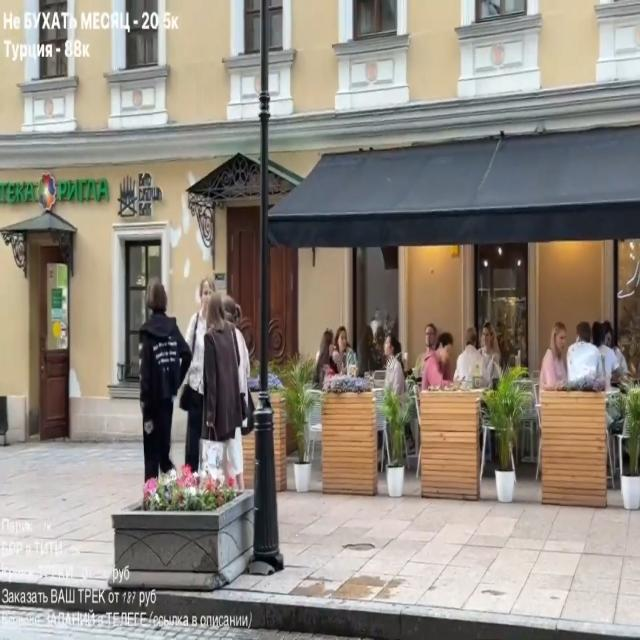Person: (138, 289, 193, 486), (200, 294, 253, 494), (566, 323, 606, 392), (594, 322, 629, 391), (418, 329, 455, 391), (318, 329, 360, 380), (539, 324, 570, 392), (456, 332, 484, 388)
